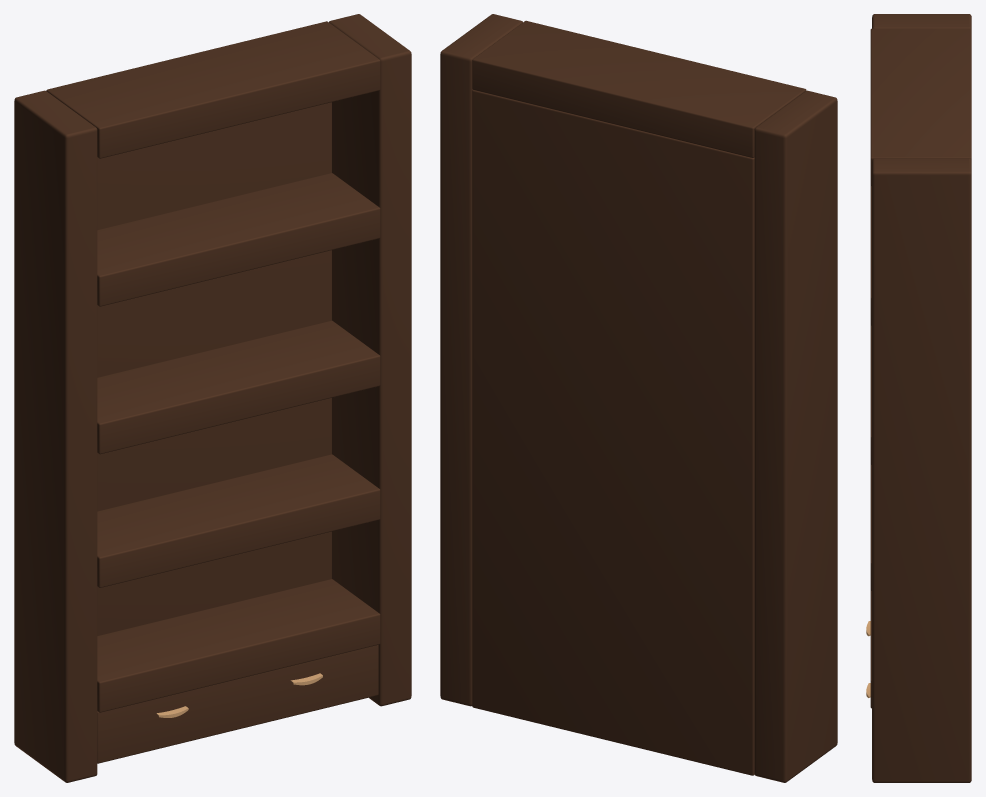
File: Library.fbx
3 renders of one model, left to right at view 1: azimuth 30°, elevation 25°; view 2: azimuth 150°, elevation 25°; view 3: azimuth 270°, elevation 25°, orthographic. The views are drawn at different scales.
Parts seen in each view (by area): view 1: Library_starnick; view 2: Library_starnick; view 3: Library_starnick.
Boxes of the visible parts, x1,y1,x2,y2 form: Library_starnick: (14, 14, 411, 782); Library_starnick: (440, 14, 837, 782); Library_starnick: (866, 14, 971, 782).
Bounding box in the file's own units: 1174 × 328 × 2101.
